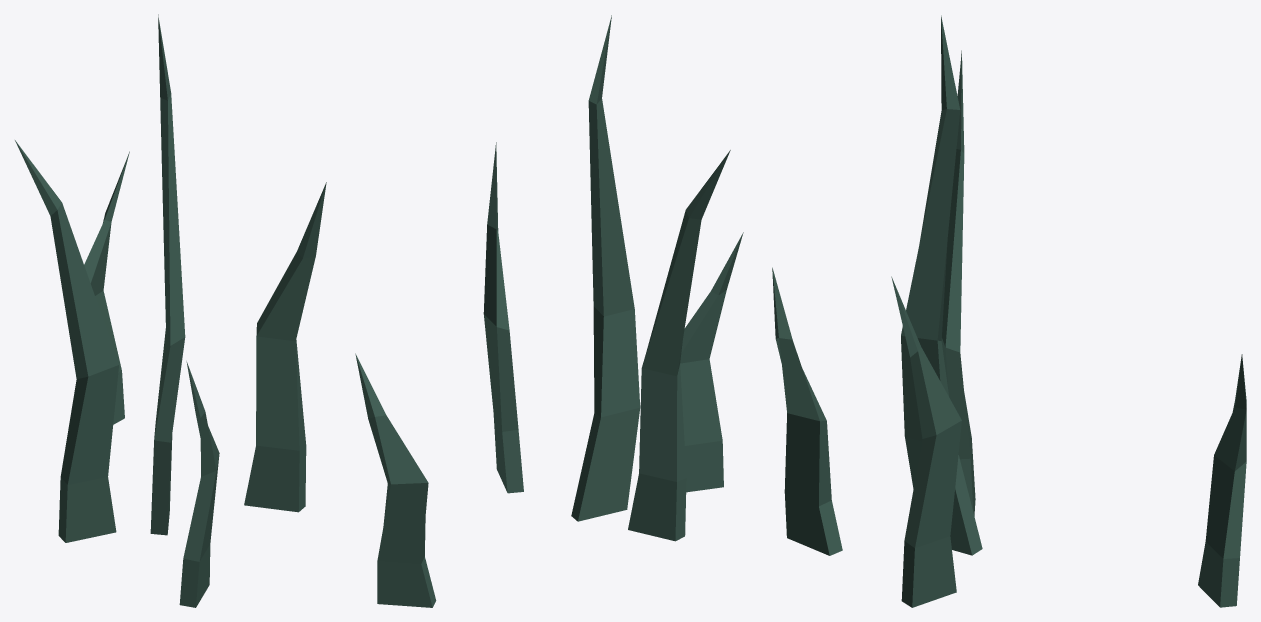
The model's file is fbGrass2.fbx.
3 views of the same model, side by side, from view 1: azimuth 30°, elevation 25°; view 2: azimuth 150°, elevation 25°; view 3: azimuth 270°, elevation 25° (orthographic). The views are drawn at different scales.
Visible parts, largest first — view 1: fbGrass2; view 2: fbGrass2; view 3: fbGrass2.
Part boxes in pixels (box(x1,y1,x2,y2)): fbGrass2: box(15, 14, 326, 607); fbGrass2: box(355, 15, 743, 607); fbGrass2: box(772, 15, 1246, 607).
Size of the model in its own units: 76.91 by 140 by 111.
